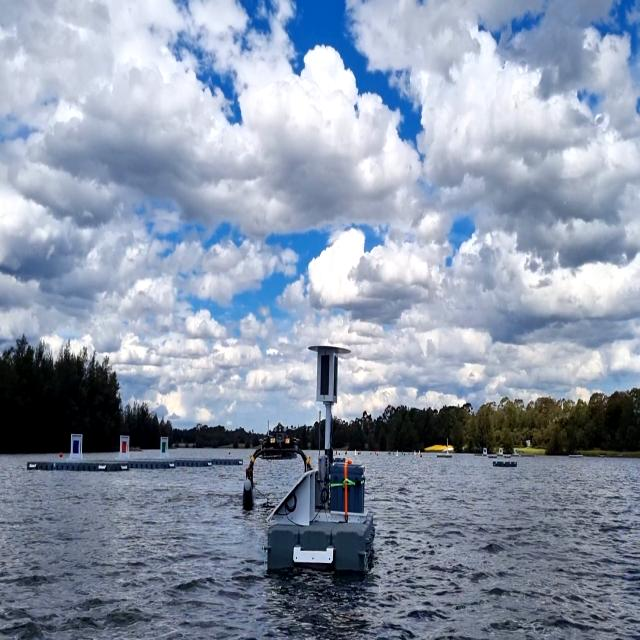led: (319, 352, 331, 401)
